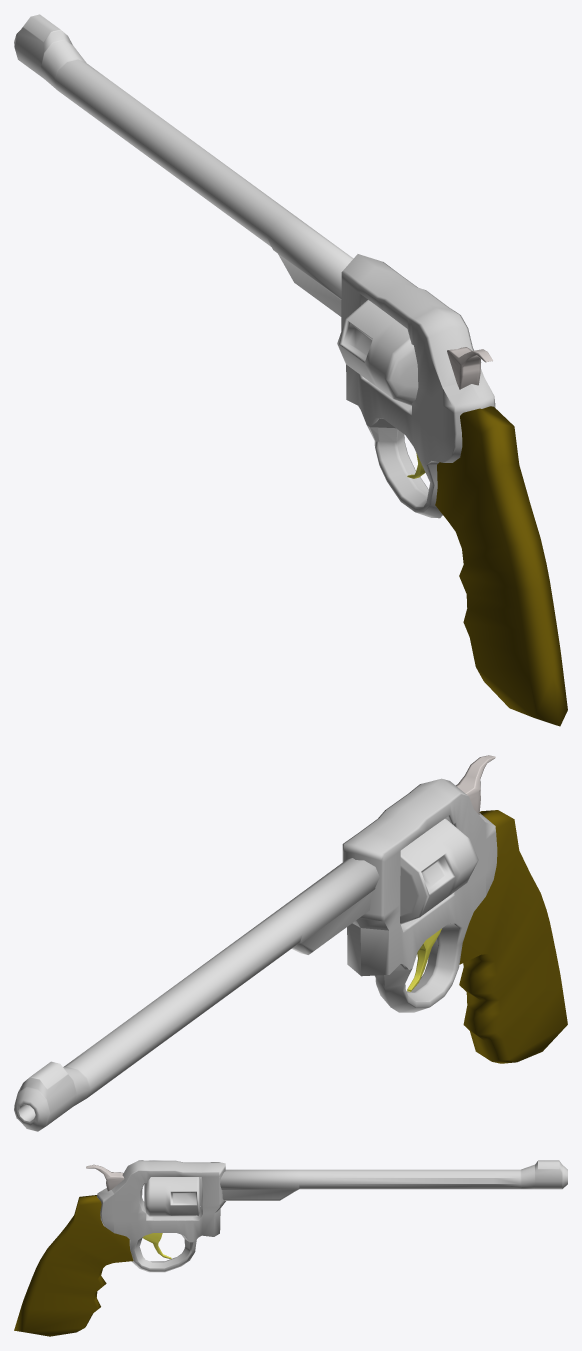
File: RevolverCountryGun.fbx
3 views of the same model, one above another, from view 1: azimuth 30°, elevation 25°; view 2: azimuth 150°, elevation 25°; view 3: azimuth 270°, elevation 25° (orthographic). The views are drawn at different scales.
Visible parts, largest first — view 1: polySurface5; view 2: polySurface5; view 3: polySurface5.
Boxes of the visible parts, x1=… form: polySurface5: x1=14, y1=14, x2=567, y2=726; polySurface5: x1=14, y1=755, x2=567, y2=1131; polySurface5: x1=14, y1=1160, x2=567, y2=1336.
Size of the model in its own units: 1.78 by 6.27 by 18.08.
